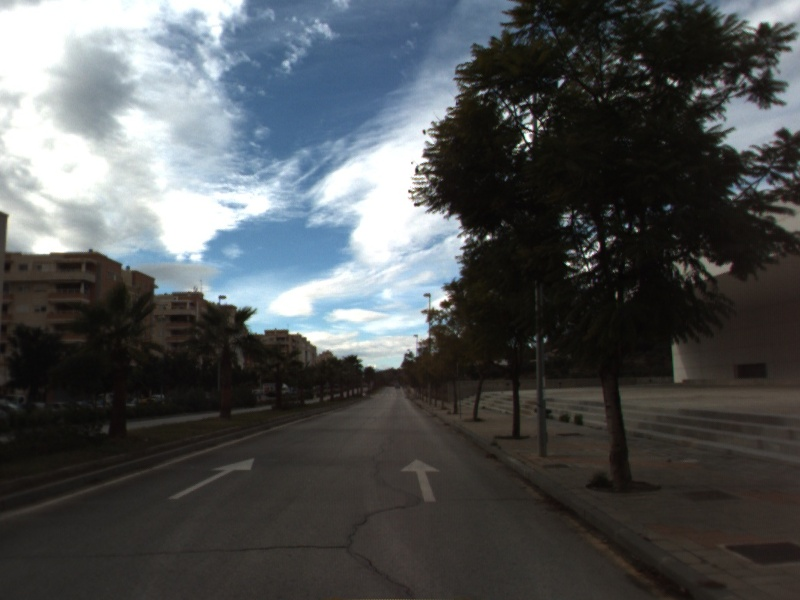STRAIGHT: (166, 456, 256, 501), (398, 456, 443, 504)
